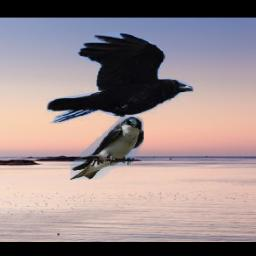Crow: (46, 32, 193, 124)
Swallow: (70, 117, 144, 180)
